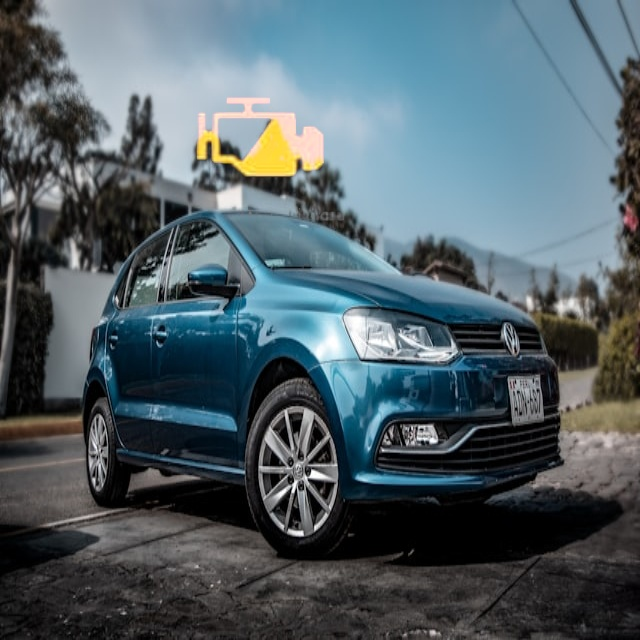symbol: (167, 45, 352, 230)
